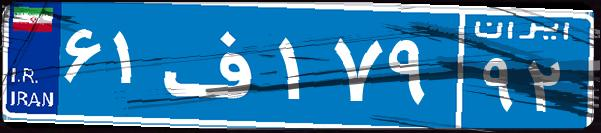1: (273, 28, 330, 110), (110, 28, 158, 105)
2: (525, 38, 570, 115)
6: (57, 26, 110, 107)
7: (330, 28, 385, 110)
9: (385, 28, 445, 110), (475, 38, 525, 113)
ف: (158, 15, 273, 115)
